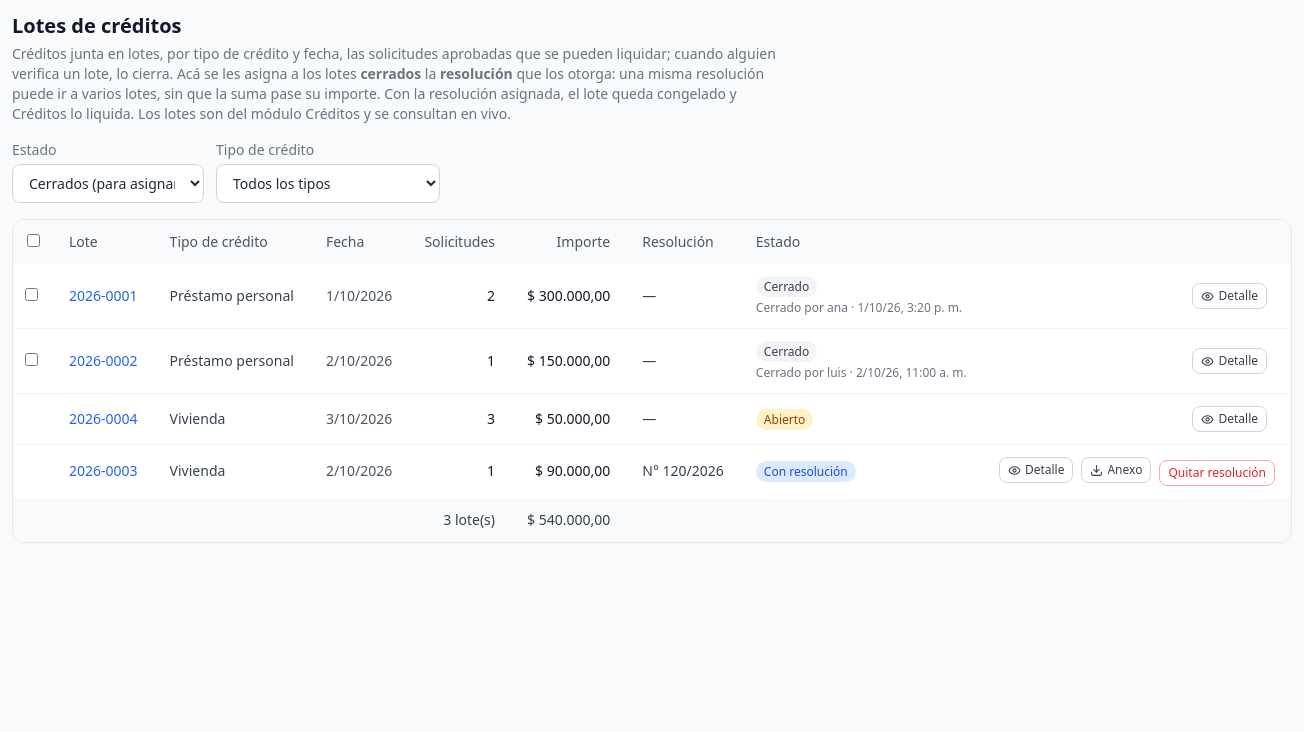
Test: Lotes de créditos (Despacho) › muestra el motivo si Créditos rechaza la asignación
The width and height of the screenshot is (1304, 732).
Click the checkbox named "Elegir 2026-0001": [32, 294] box x1=25 y1=288 x2=38 y2=301
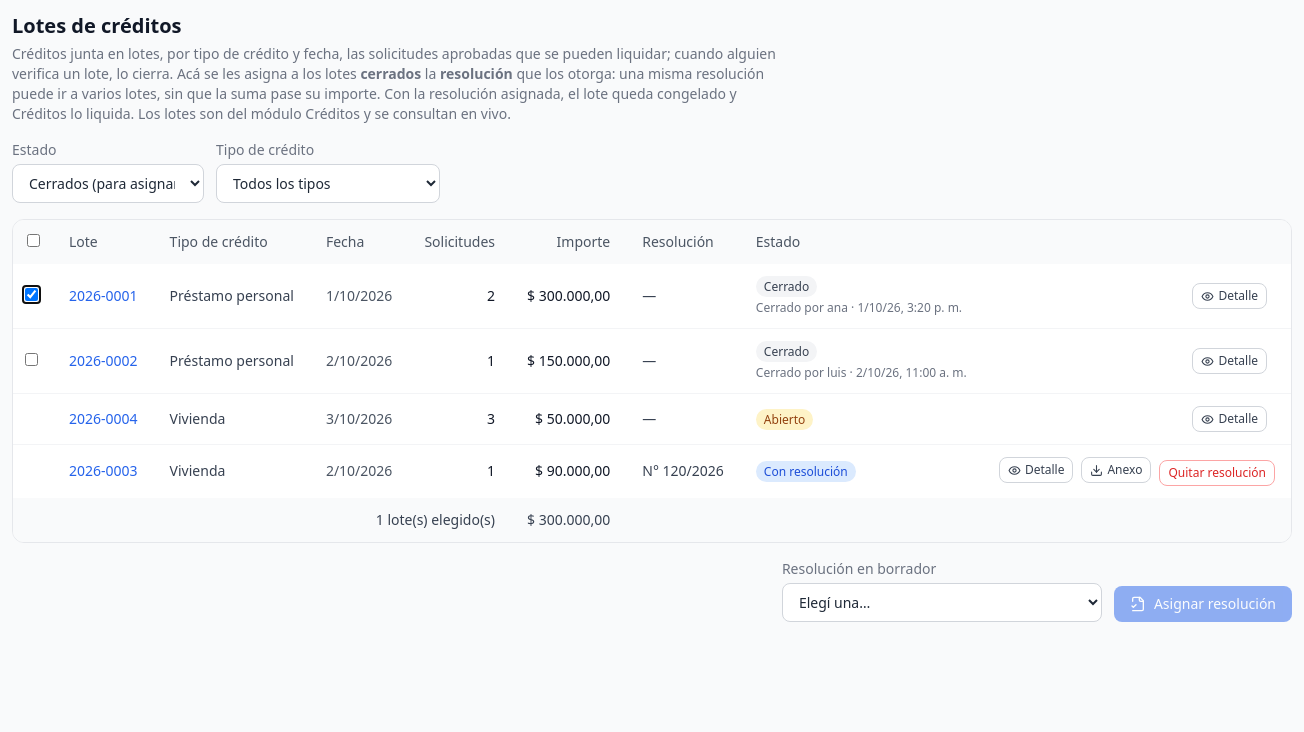
Select "N° 45/2026 · $ 400.000,00 · OTORGAMIENTO" in the dropdown labelled "Resolución en borrador": [942, 602] box x1=782 y1=582 x2=1102 y2=622
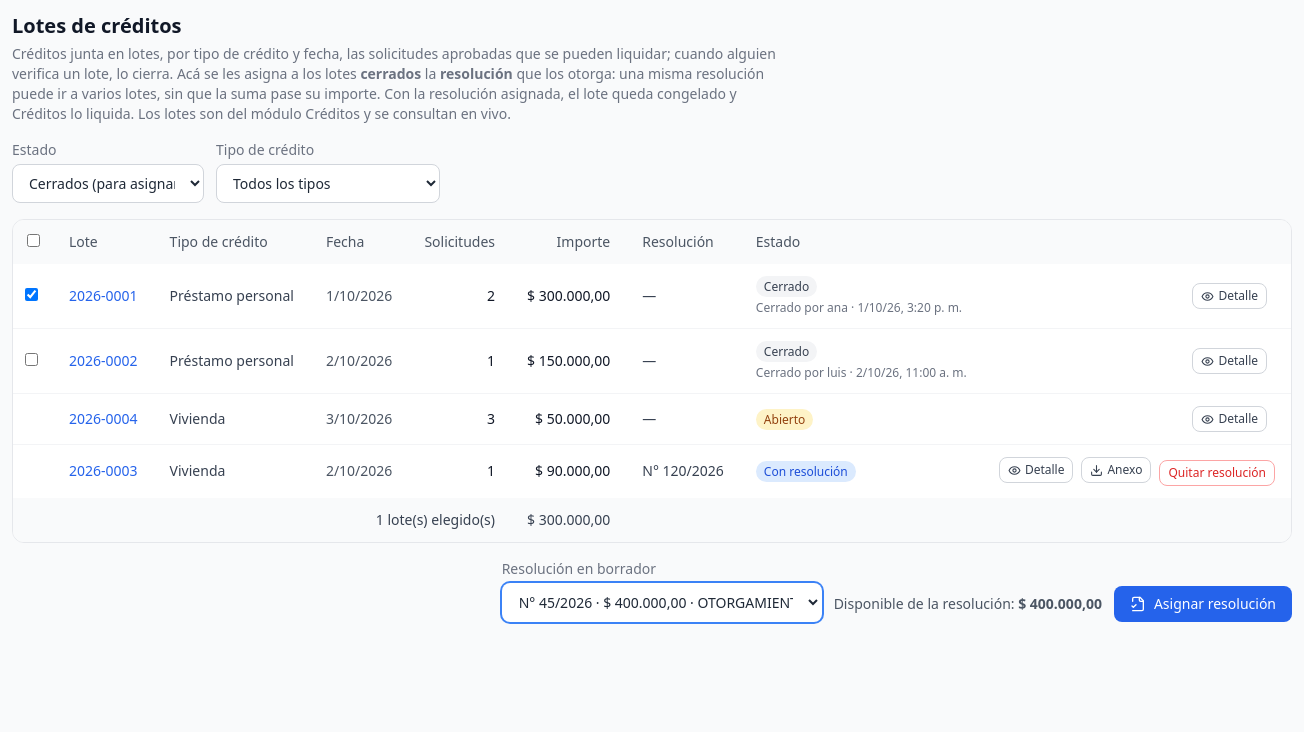
Click the button "Asignar resolución": [1203, 604] box x1=1114 y1=586 x2=1292 y2=622
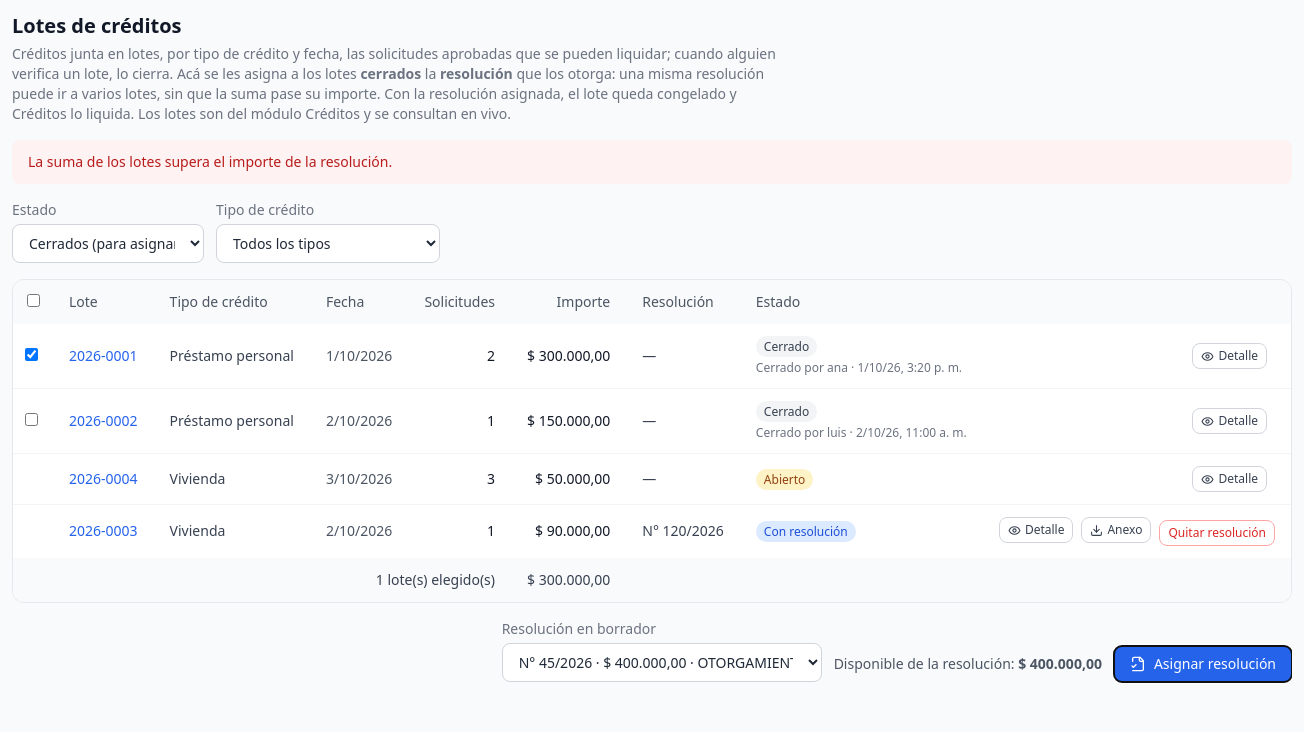
Expected: the text "La suma de los lotes supera el importe de la resolución." is shown, x1=12 y1=140 x2=1292 y2=184
